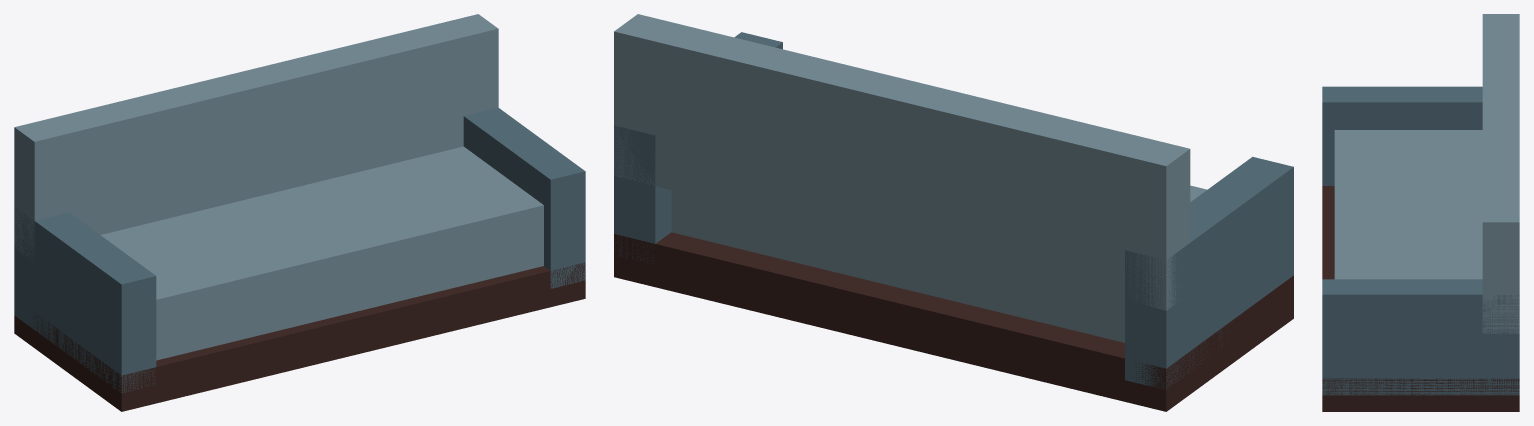
Rendered from sofa.glb.
3 renders of one model, left to right at view 1: azimuth 30°, elevation 25°; view 2: azimuth 150°, elevation 25°; view 3: azimuth 270°, elevation 25°, orthographic. The views are drawn at different scales.
Visible parts, largest first — view 1: Sofa; view 2: Sofa; view 3: Sofa.
Boxes of the visible parts, x1,y1,x2,y2 form: Sofa: (14, 14, 585, 411); Sofa: (614, 14, 1293, 411); Sofa: (1322, 14, 1519, 411).
Size of the model in its own units: 2 by 0.85 by 0.8.
